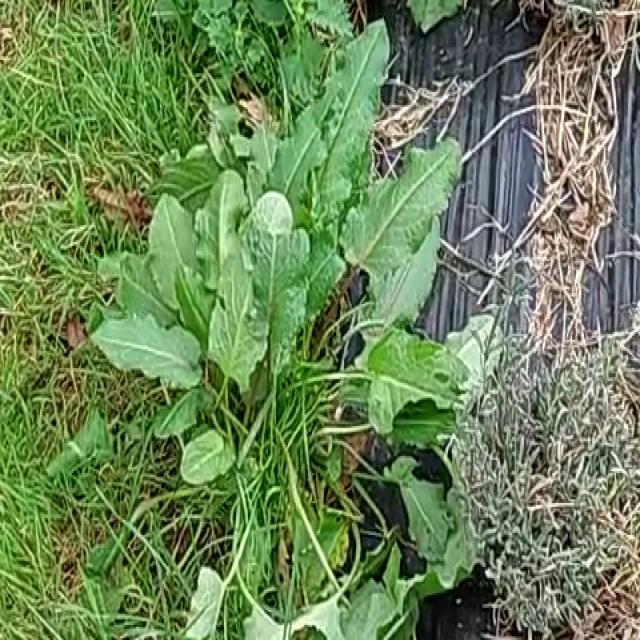organic waste: (56, 2, 467, 572)
